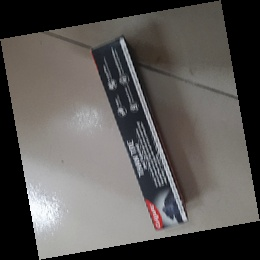Colgate Than: (89, 35, 189, 234)
